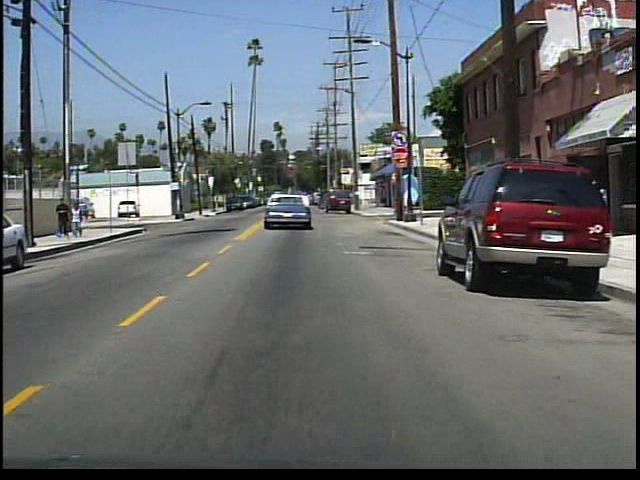person: (57, 196, 74, 238), (70, 201, 88, 238)
